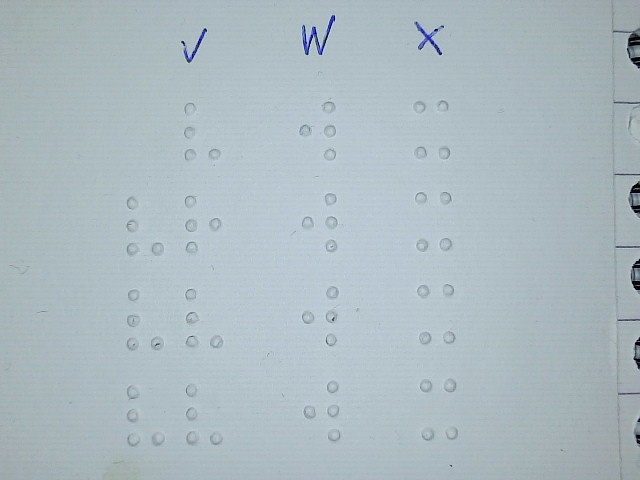V: (182, 100, 223, 162), (124, 195, 165, 257), (184, 287, 225, 349), (125, 385, 166, 447), (183, 382, 224, 444)
W: (297, 99, 338, 161), (299, 190, 340, 252), (300, 284, 341, 346), (301, 379, 342, 441)
X: (418, 376, 459, 440), (412, 97, 453, 159), (413, 189, 454, 251), (416, 282, 457, 344)
